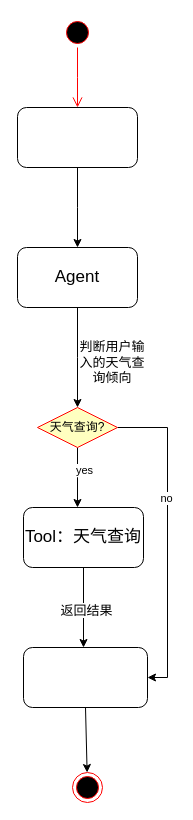
This 193x820 diagram has some shape labels left out. Here are the shapes that lost their labels. From the top down, the centre of each, then its label:
At (77,137): "用户输入".
At (85,677): "Agnet：结合查询结果回复用户".
